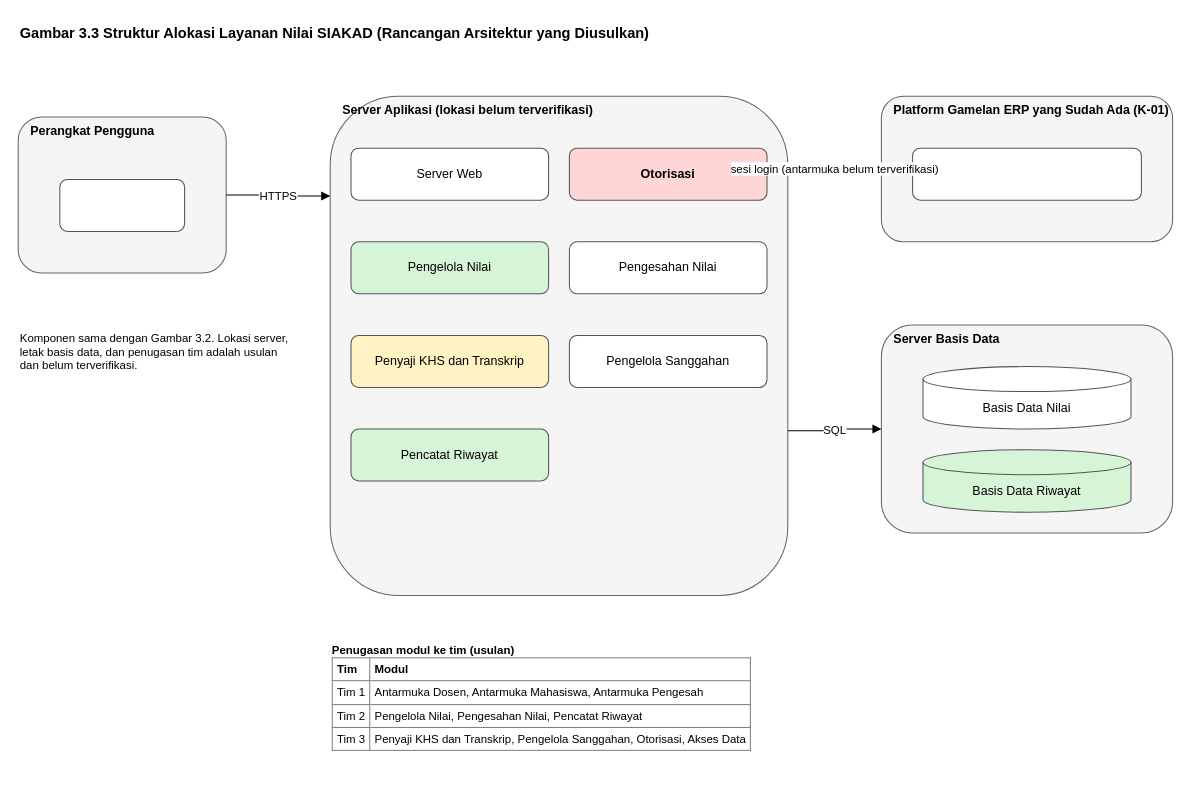
Some shapes in this 1191 by 789 pixel diagram are drawn without their labels. Each missing label, with the centre of its shape:
Browser: the point at 122,204
Layanan Login Gamelan ERP: the point at 1026,173
